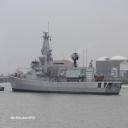Fragata: (8, 20, 123, 96)
